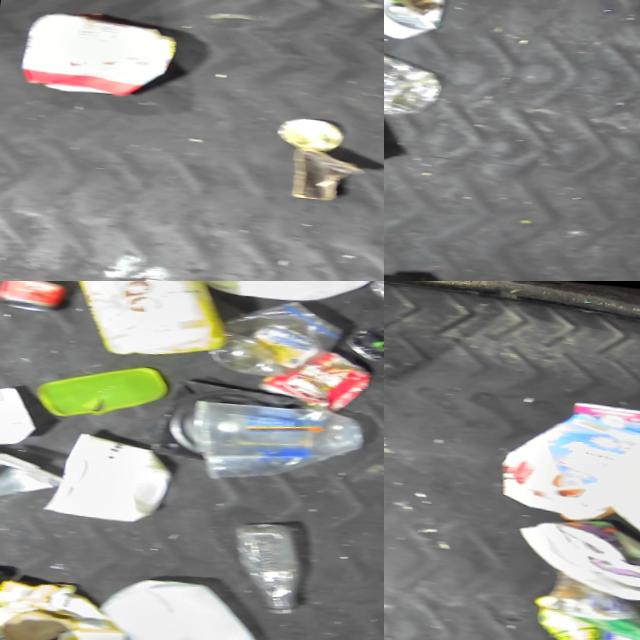can: (259, 340, 384, 413), (384, 25, 457, 117), (277, 113, 351, 152), (342, 302, 384, 365), (0, 281, 77, 312)
milk_jug: (98, 570, 284, 640), (588, 407, 640, 552), (145, 281, 384, 308)
non_white_jug: (54, 281, 250, 363)
plastic_bottle: (228, 515, 326, 614)
